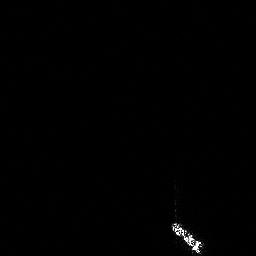ship: (166, 218, 207, 256)
